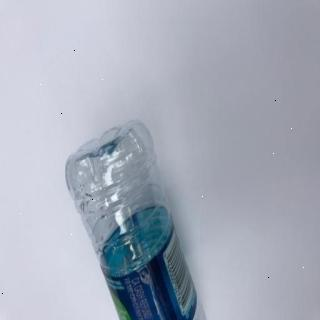Plastic-bottle: (64, 117, 209, 320)
